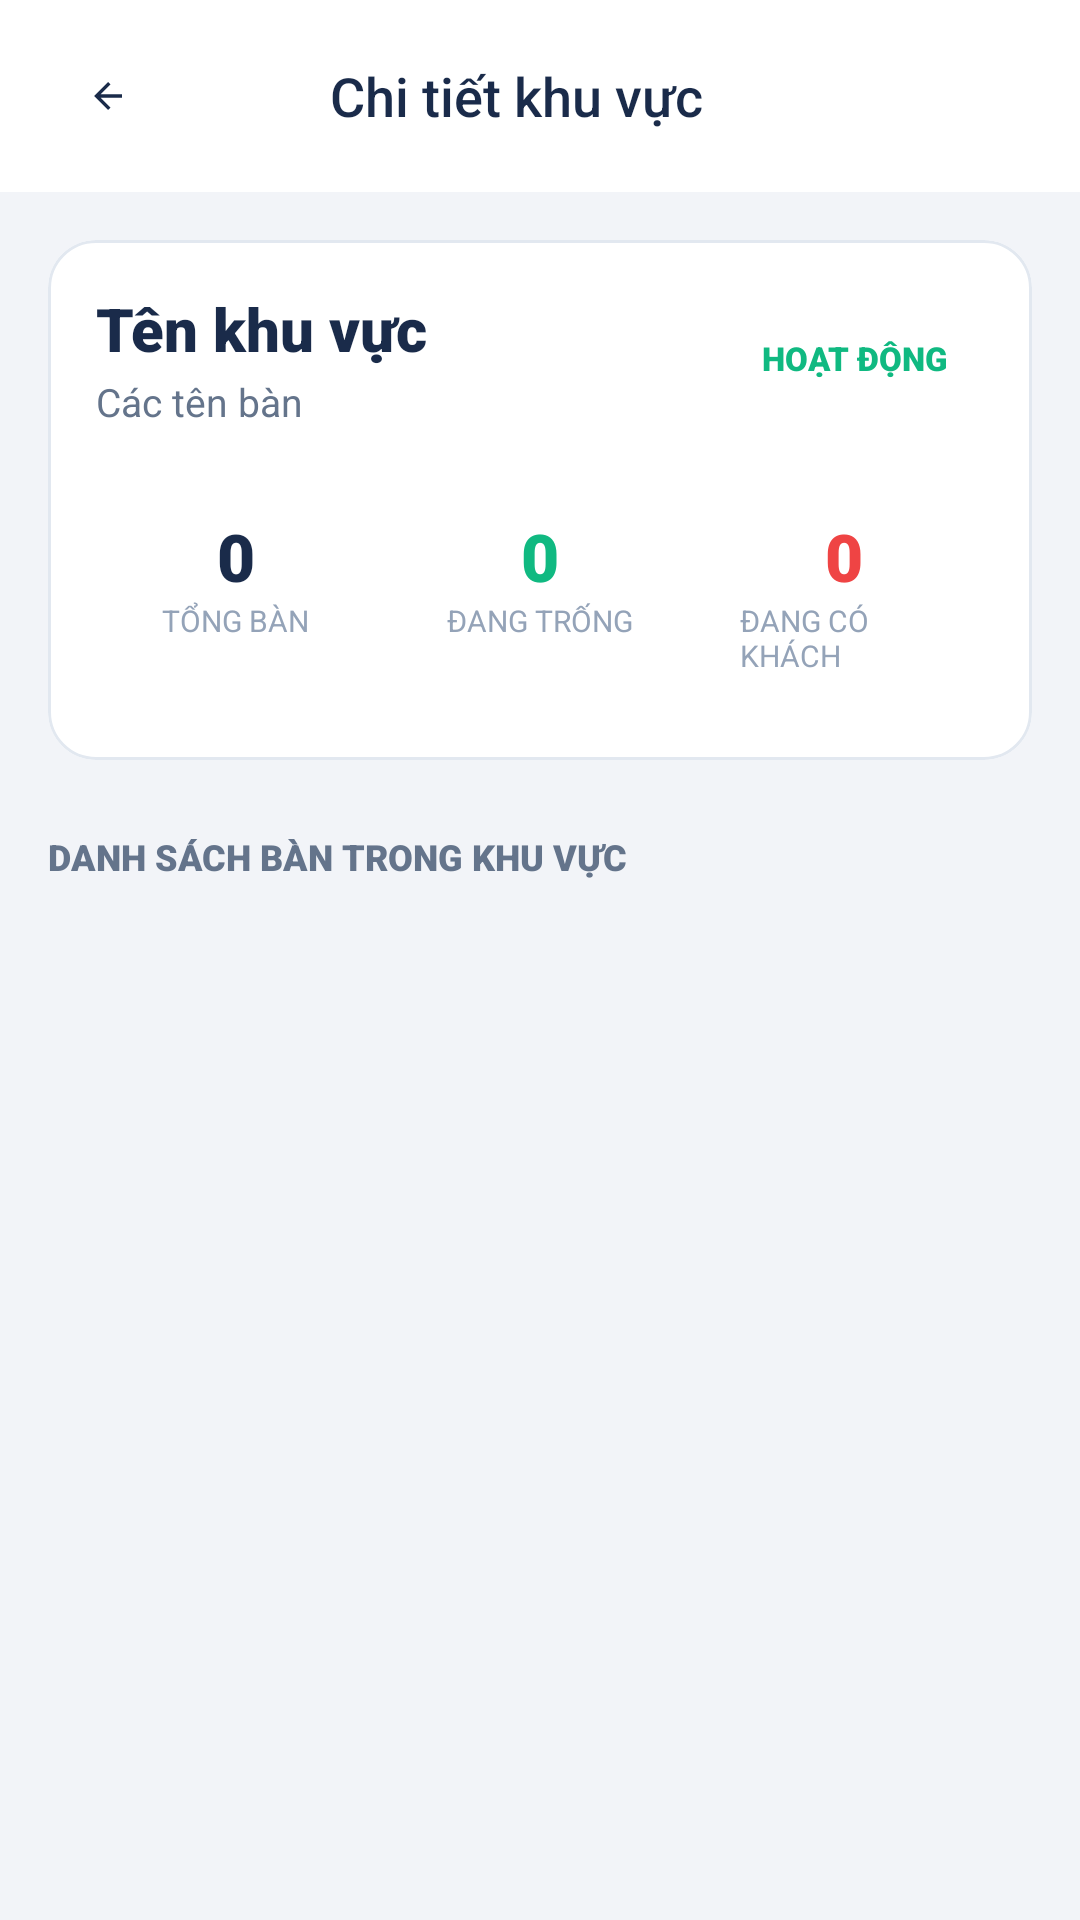

Where icons sit on this 1080px x 1920px app screen, as (x1, y1, x2, y2):
Quay lại: (94, 82, 122, 110)
